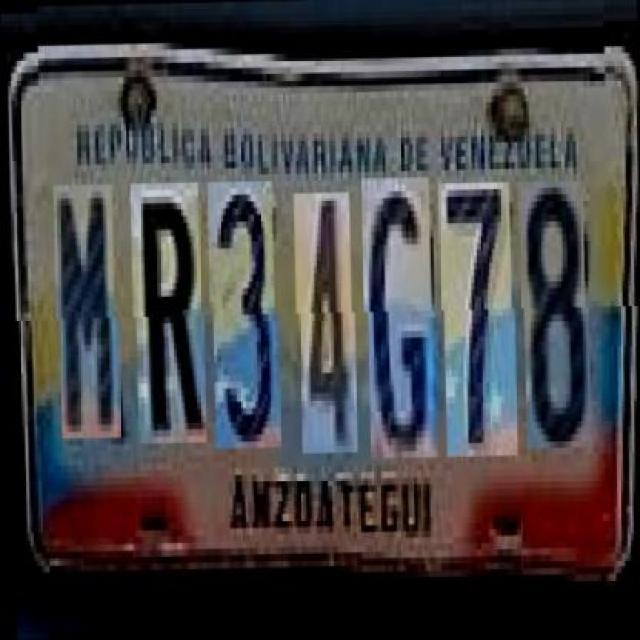3: (210, 182, 278, 450)
4: (296, 194, 356, 455)
7: (440, 185, 517, 460)
8: (520, 183, 589, 451)
g: (363, 178, 435, 460)
m: (55, 185, 118, 440)
r: (132, 183, 205, 445)
